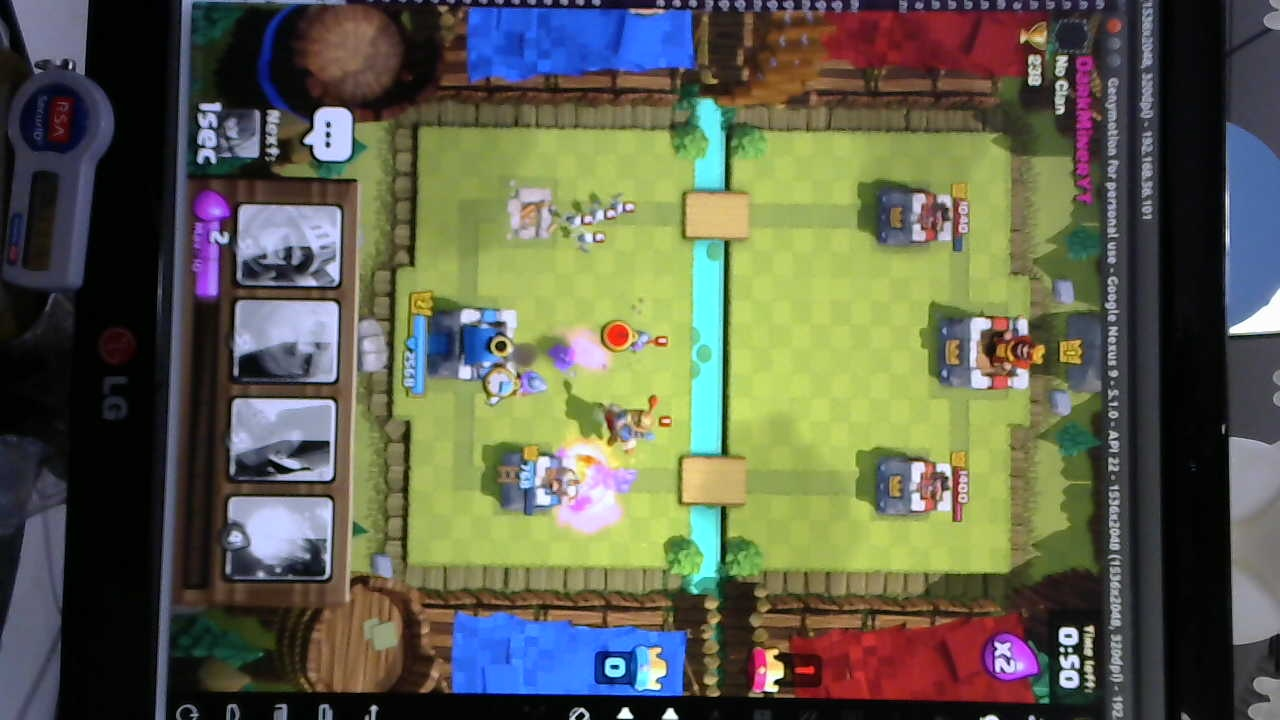arena: (501, 451, 577, 515)
darena: (504, 184, 558, 248)
earena: (874, 455, 954, 519), (875, 188, 955, 247)
eking: (935, 316, 1038, 392)
king: (431, 307, 520, 378)
musketeer: (506, 367, 548, 399), (621, 325, 654, 359)
prince: (596, 396, 657, 450)
skeleton: (564, 198, 639, 251)
